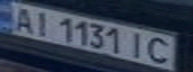1: (51, 15, 75, 43), (69, 18, 90, 47), (103, 25, 124, 54)
3: (87, 21, 106, 51)
A: (6, 3, 39, 34)
C: (142, 34, 178, 65)
I: (27, 9, 57, 38), (124, 29, 151, 60)
